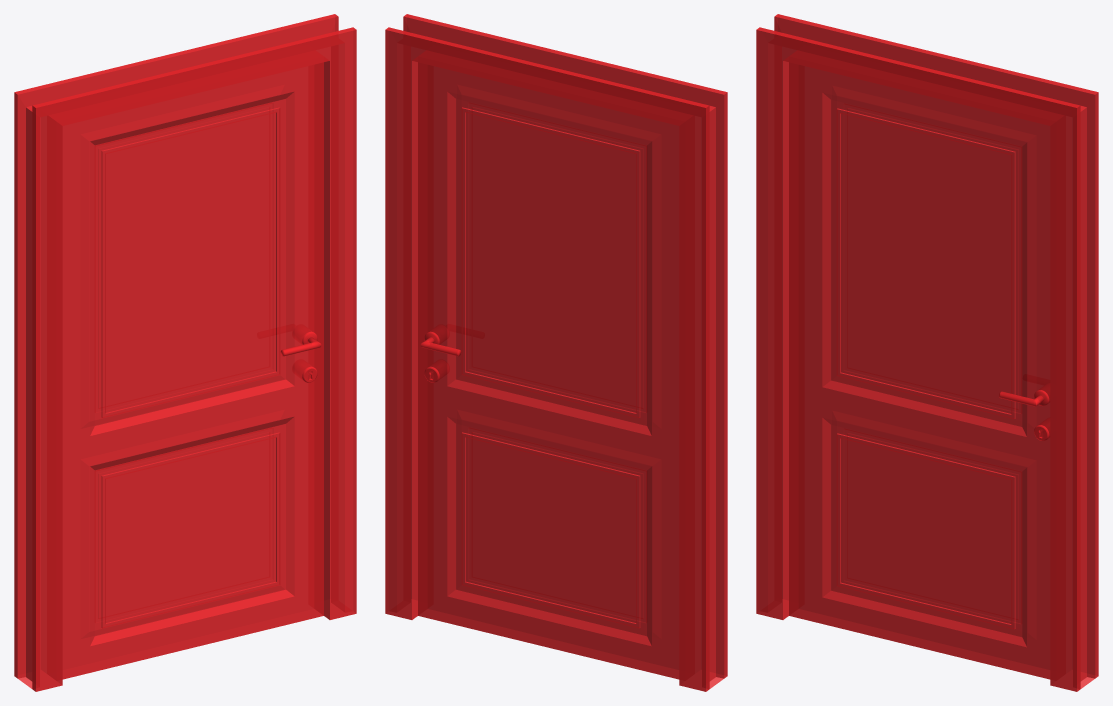
The model's file is Door_Highlighted.gltf.
3 renders of one model, left to right at view 1: azimuth 30°, elevation 25°; view 2: azimuth 150°, elevation 25°; view 3: azimuth 330°, elevation 25°, orthographic.
Visible parts, largest first — view 1: Door1.001, Frame.001, Lock.001; view 2: Door1.001, Frame.001, Lock.001; view 3: Door1.001, Frame.001, Lock.001.
Part boxes in pixels (box(x1,y1,x2,y2)): Door1.001: box(47, 52, 323, 679); Frame.001: box(14, 14, 356, 691); Lock.001: box(280, 325, 321, 382); Door1.001: box(418, 54, 694, 679); Frame.001: box(385, 14, 727, 691); Lock.001: box(420, 325, 461, 382); Door1.001: box(789, 51, 1065, 679); Frame.001: box(756, 14, 1098, 691); Lock.001: box(999, 383, 1049, 440).
Size of the model in its own units: 1.8 by 3.13 by 0.2658.
